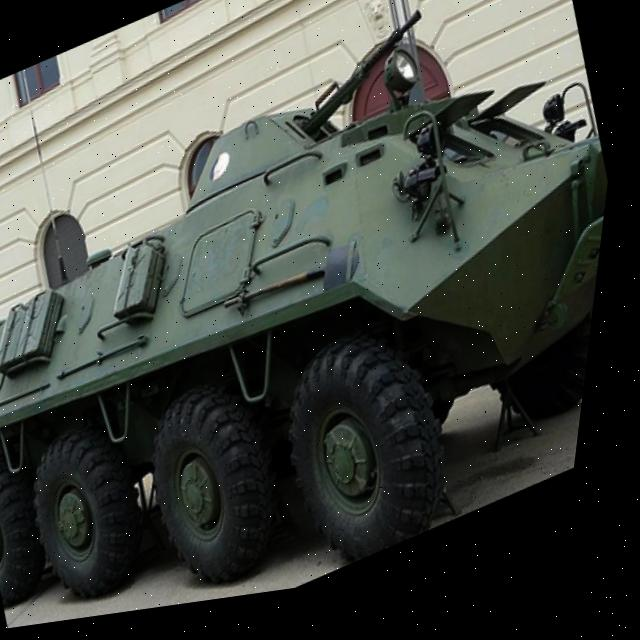MIL_APC: (0, 0, 634, 640)
